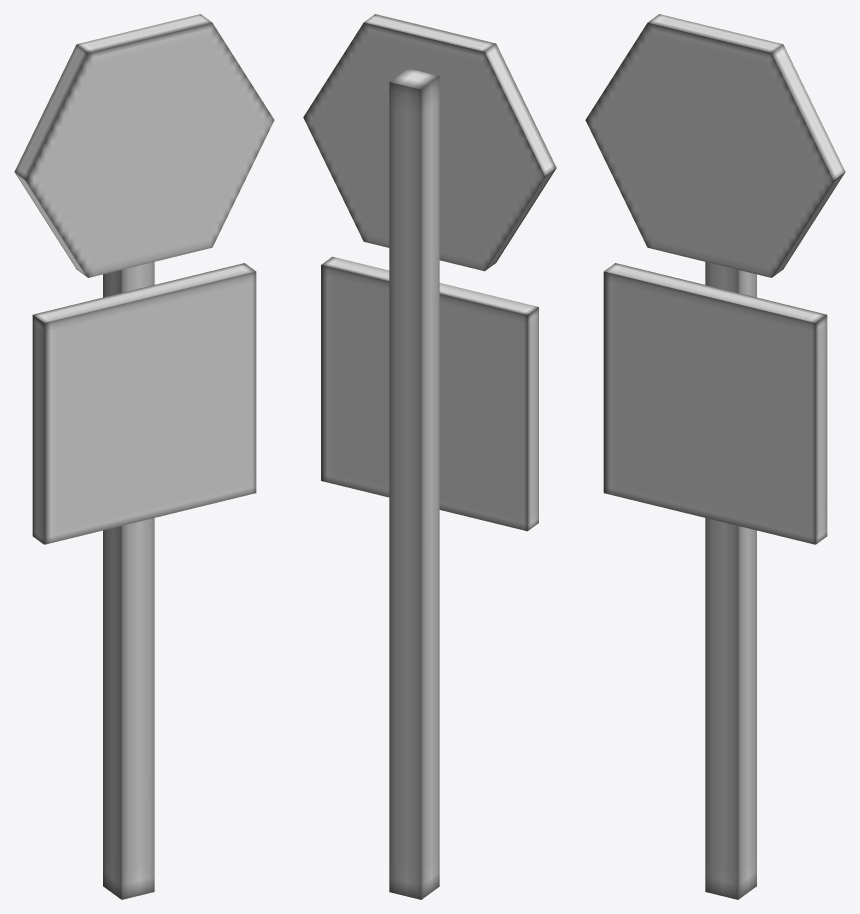
The model's file is Sign-05.fbx.
3 views of the same model, side by side, from view 1: azimuth 30°, elevation 25°; view 2: azimuth 150°, elevation 25°; view 3: azimuth 330°, elevation 25° (orthographic). The views are drawn at different scales.
Parts seen in each view (by area): view 1: Sign_05; view 2: Sign_05; view 3: Sign_05.
Boxes of the visible parts, <box> form: Sign_05: <box>14,14,274,899</box>; Sign_05: <box>303,14,556,899</box>; Sign_05: <box>585,14,845,899</box>.
Size of the model in its own units: 0.3599 by 1.2 by 0.0782.
